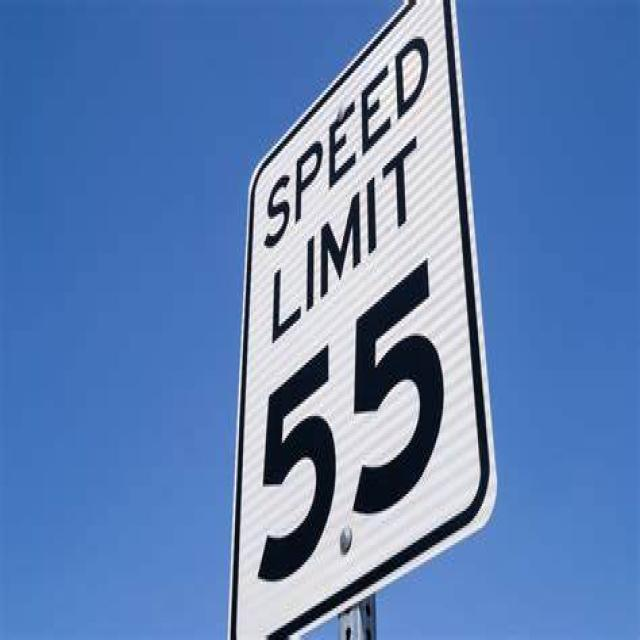speedLimit55: (228, 4, 471, 629)
